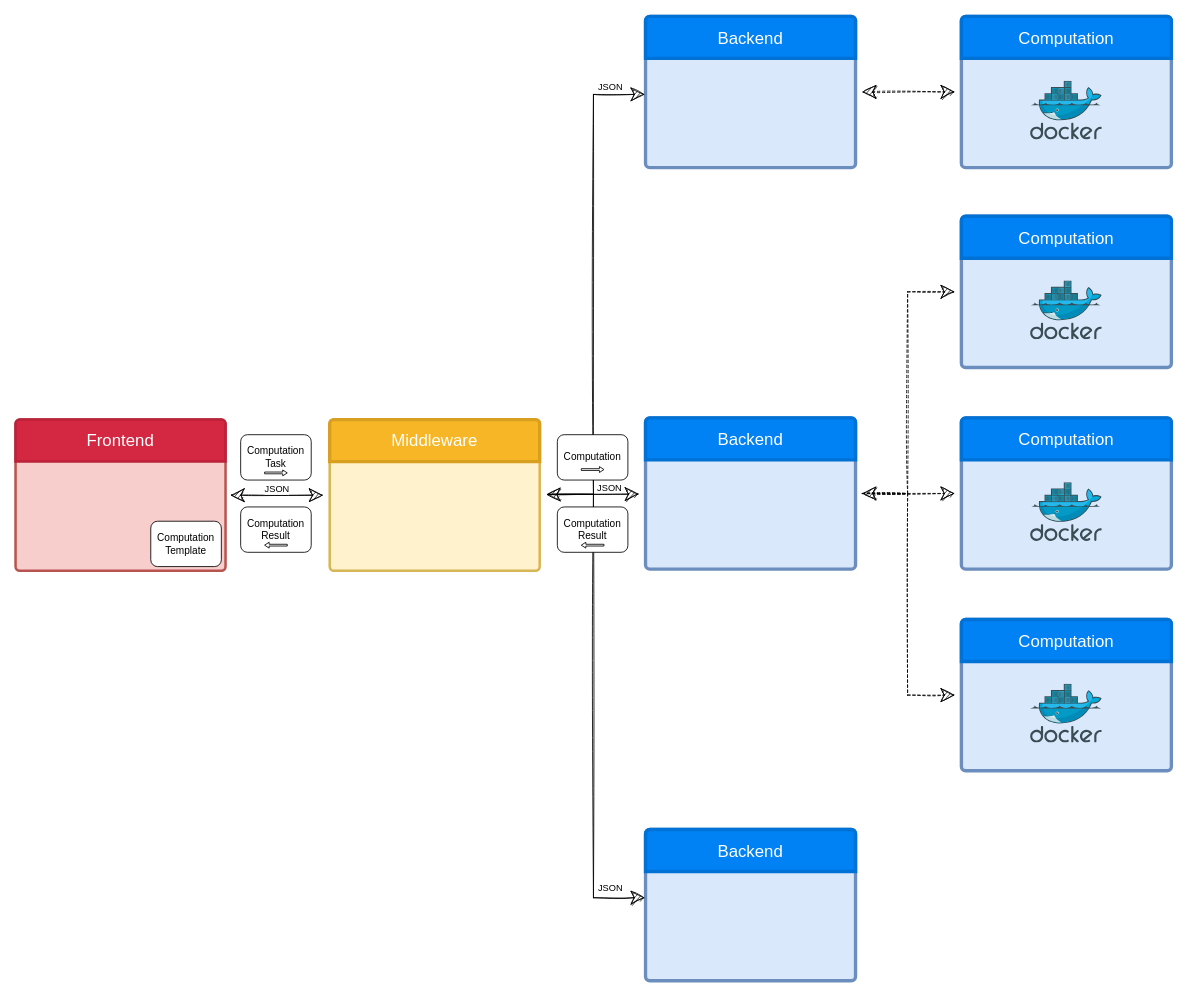
The diagram is 1188 pixels wide and 996 high, and some of its shapes have lost their labels. The shapes that lost their labels are listed below. From the top down, each one's box as (x1, y1, x2, y2) in pixels, then its label:
(14, 418, 226, 572): As Standalone or integrated into e.g. ILIAS, DaRUS
(328, 418, 541, 572): Websocket API, ActiveMQ
